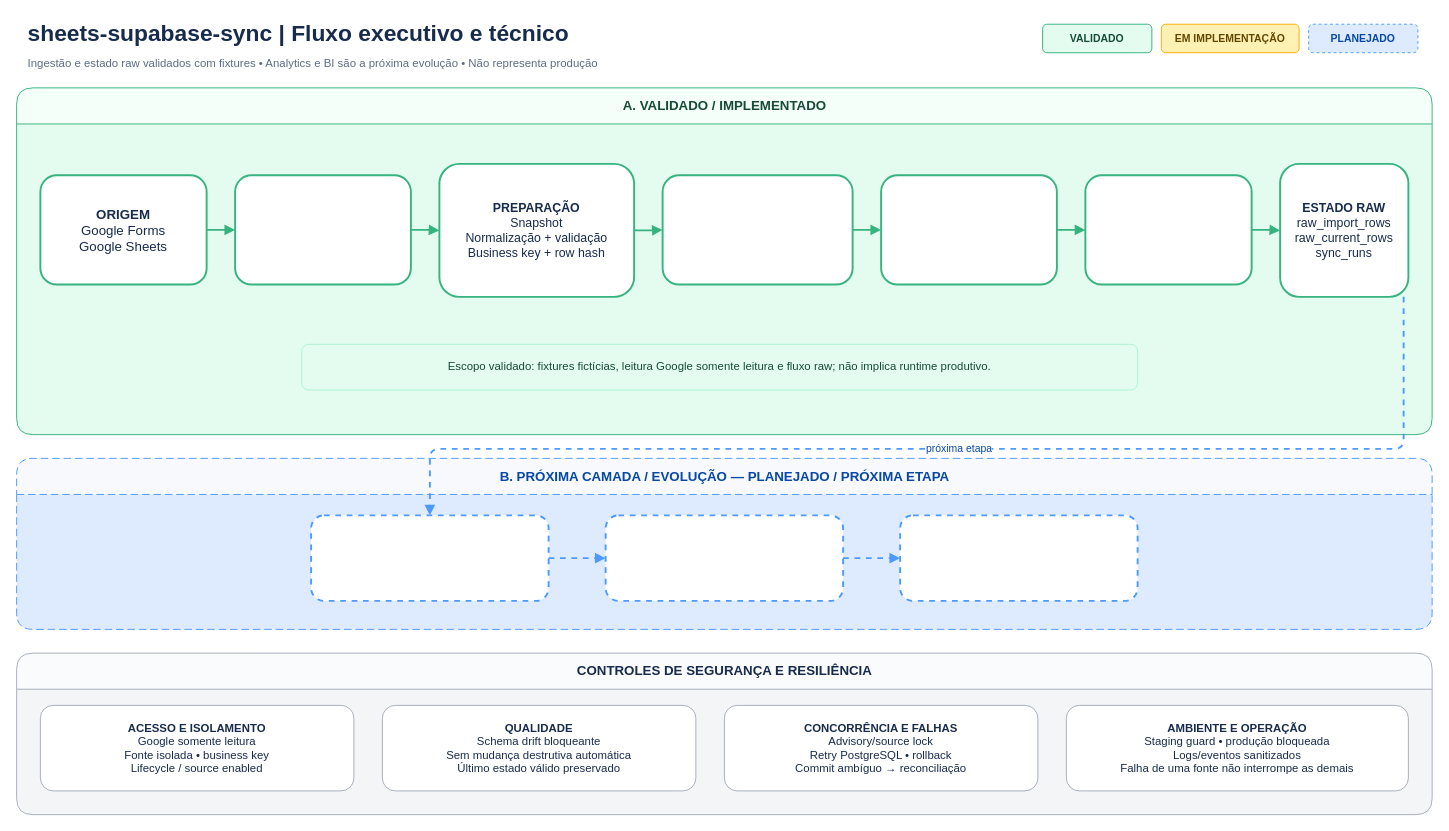
This 1449x831 diagram has some shape labels left out. The shapes that lost their labels are listed below. From the top down, each one's centre as x and y in pixels, then its label:
At point (322, 229): "INGESTÃO Service Account read-only GoogleSheetsReader".
At point (757, 229): "COMPARAÇÃO Estado recebido × estado atual Diff por fonte/chave".
At point (968, 229): "MUDANÇAS INSERT • UPDATE TOMBSTONE • RESTORE".
At point (1168, 229): "PERSISTÊNCIA Transação psycopg Supabase / PostgreSQL".
At point (429, 557): "TRANSFORMAÇÃO ANALÍTICA Idempotente e minimizada Origem: raw_current_rows".
At point (724, 557): "STAR SCHEMA DIM_SOURCE • DIM_CATEGORY FACT_CATEGORY_SCORE".
At point (1018, 557): "DASHBOARD / BI Somente dados curados Acesso mínimo + RLS/RBAC".
